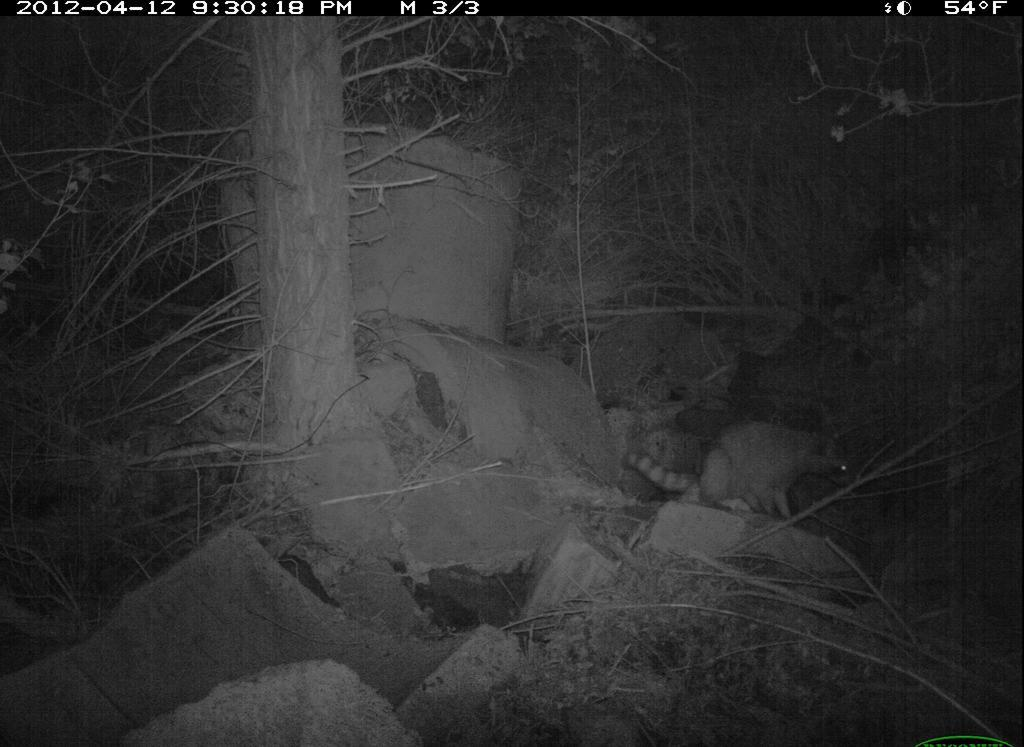raccoon: (619, 413, 863, 530)
